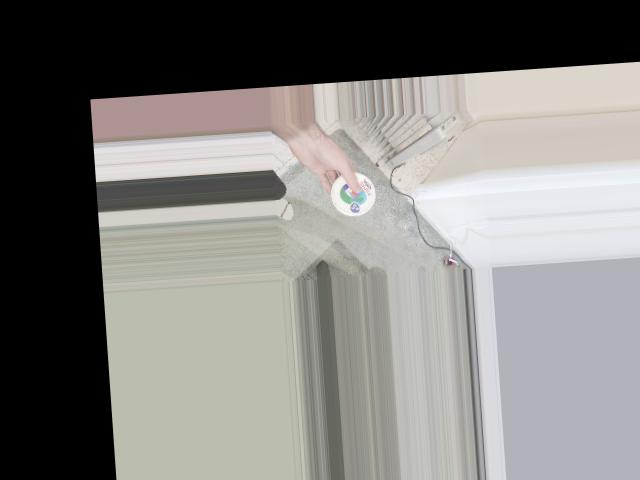cotage: (330, 170, 374, 214)
